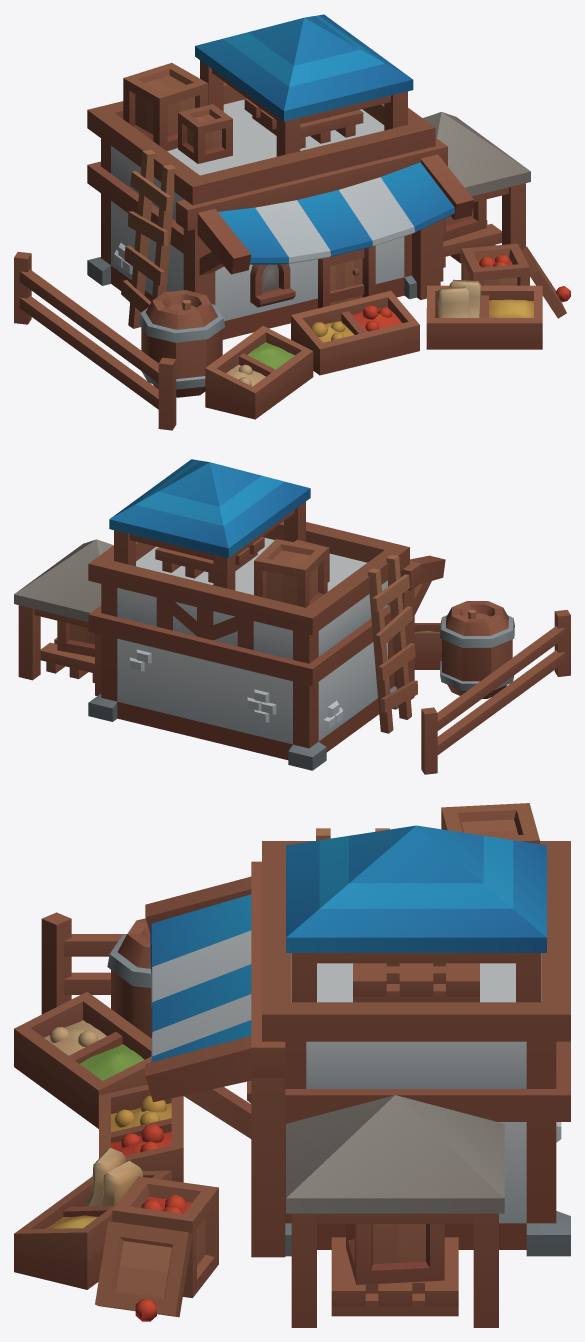
File: H_market_blue.glb
3 renders of one model, top to bottom at view 1: azimuth 30°, elevation 25°; view 2: azimuth 150°, elevation 25°; view 3: azimuth 270°, elevation 25°, orthographic. The views are drawn at different scales.
Parts seen in each view (by area): view 1: building_market_blue; view 2: building_market_blue; view 3: building_market_blue.
Boxes of the visible parts, x1,y1,x2,y2 form: building_market_blue: [14, 14, 570, 430]; building_market_blue: [14, 459, 570, 774]; building_market_blue: [14, 803, 570, 1327].
Size of the model in its own units: 1.8 by 0.9818 by 1.32.
